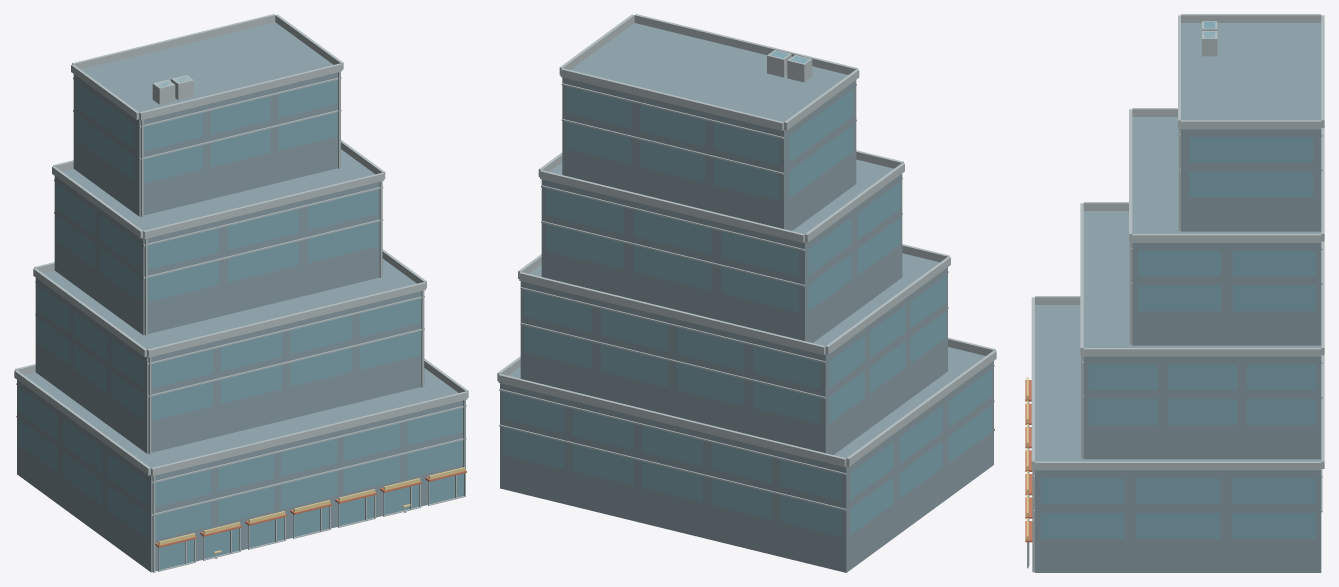
File: commercial_4x3_terraces.glb
3 renders of one model, left to right at view 1: azimuth 30°, elevation 25°; view 2: azimuth 150°, elevation 25°; view 3: azimuth 270°, elevation 25°, orthographic. The views are drawn at different scales.
Parts seen in each view (by area): view 1: commercial_4x3_terraces_0; view 2: commercial_4x3_terraces_0; view 3: commercial_4x3_terraces_0.
Part boxes in pixels (x1,y1,x2,y2): commercial_4x3_terraces_0: [14, 14, 468, 572]; commercial_4x3_terraces_0: [497, 14, 996, 572]; commercial_4x3_terraces_0: [1025, 14, 1324, 572].
Bounding box in the file's own units: 31 × 37.5 × 23.5.
